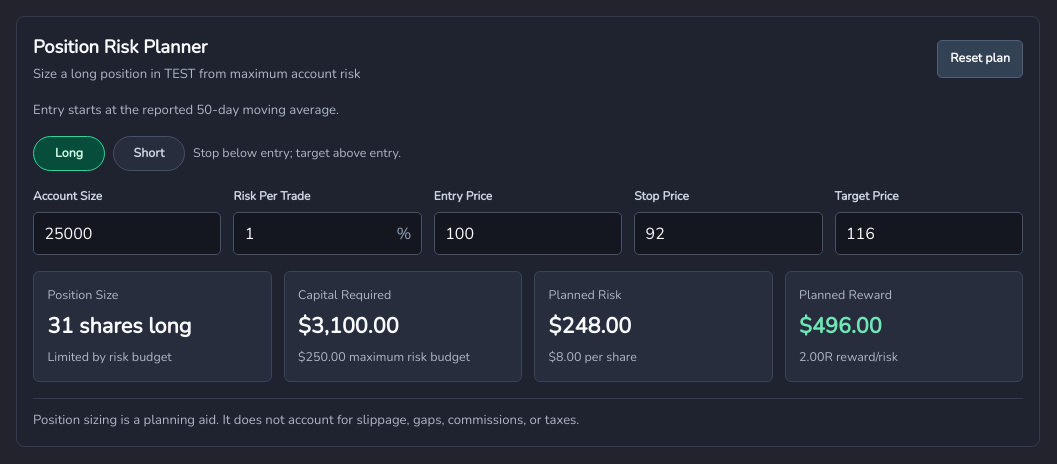
Test case: StockPositionPlanner › switches the planner to direction-aware short defaults
This screenshot has width=1057, height=464.
Click the button "Short": (149, 154) [113,136,185,171]
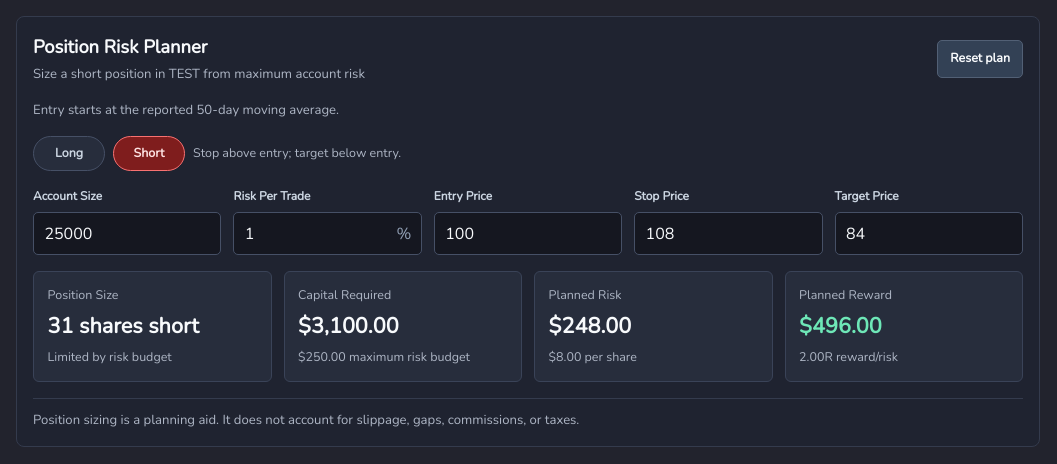
Check: the text "Stop above entry; target below entry." is shown, box [193,144,401,163]
Check: the number field labelled "Stop Price" holds "108", box [634,212,823,255]
Check: the number field labelled "Target Price" holds "84", box [835,212,1023,255]
